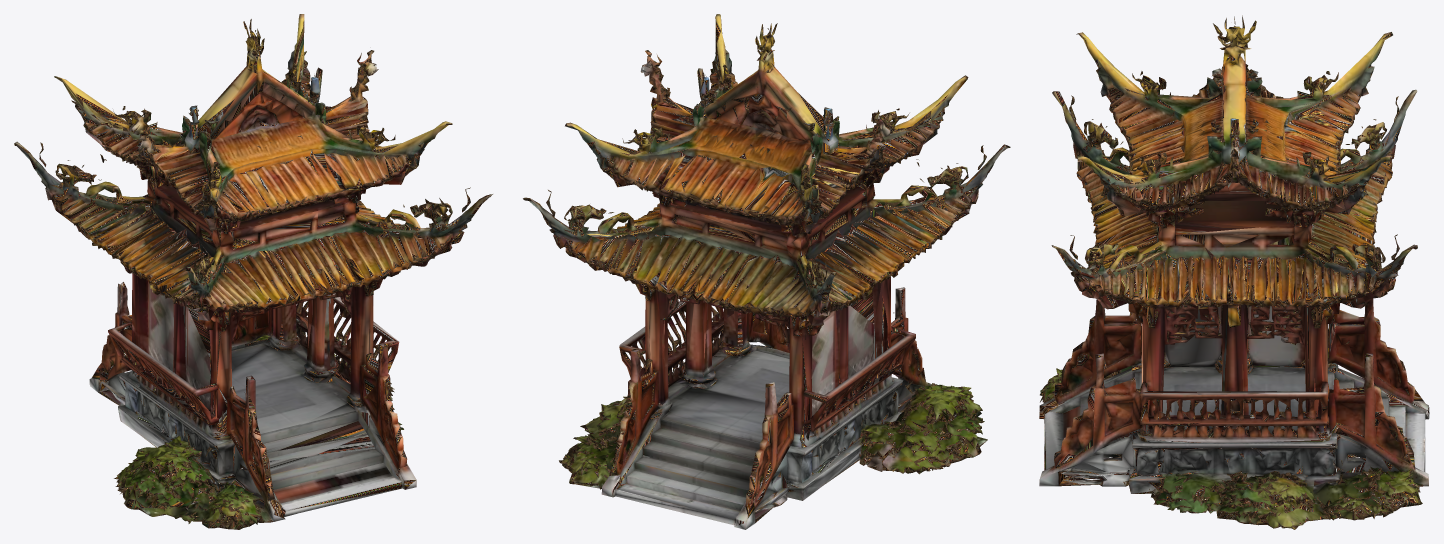
The model's file is bq_stage.glb.
The picture shows the model from 3 angles, left to right: view 1: azimuth 30°, elevation 25°; view 2: azimuth 150°, elevation 25°; view 3: azimuth 270°, elevation 25°; orthographic projection. The views are drawn at different scales.
Bounding box in the file's own units: 1.56 × 1.9 × 1.54.
1 material, 1 textured.
